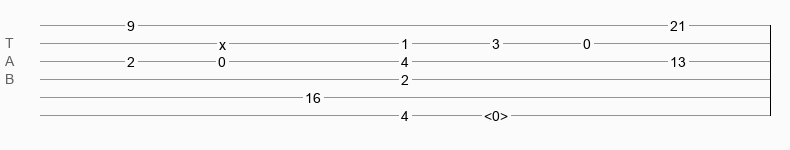0: (218, 54, 226, 64), (583, 36, 591, 46)
1: (401, 36, 409, 46)
13: (670, 54, 686, 64)
16: (305, 90, 321, 100)
2: (127, 54, 135, 64), (401, 72, 409, 82)
21: (670, 18, 686, 28)
3: (492, 36, 500, 46)
4: (401, 108, 409, 118), (401, 54, 409, 64)
9: (127, 18, 135, 28)
harmonic: (484, 108, 508, 118)
x: (219, 37, 226, 45)
